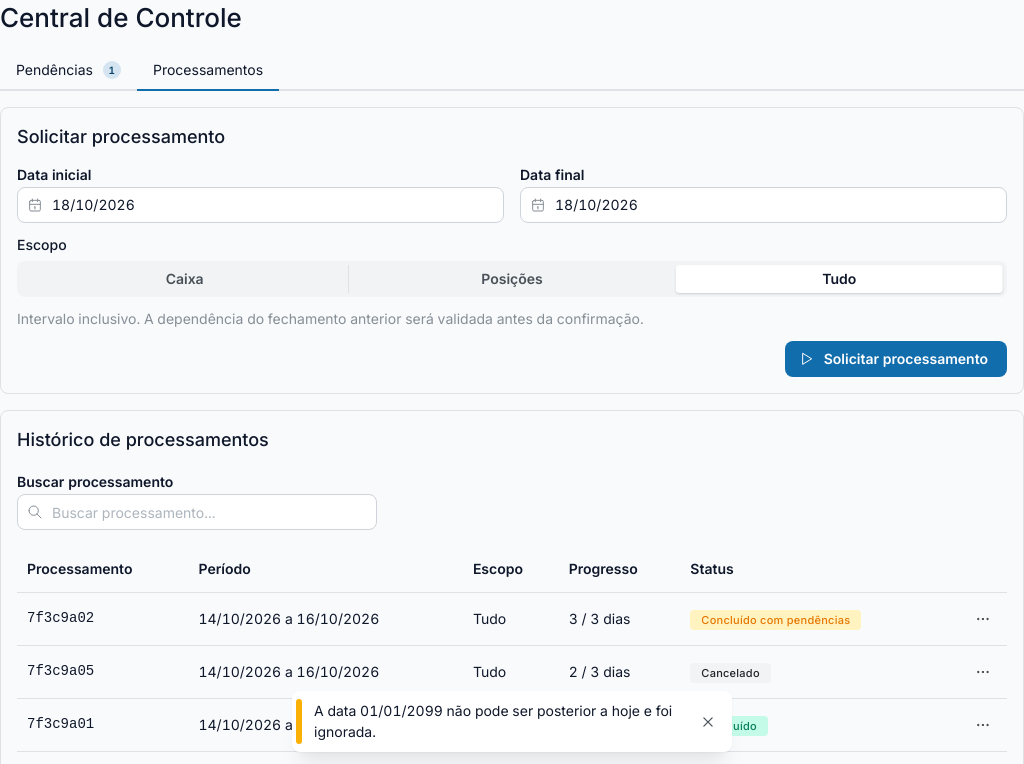
Test: Processamentos: request (§11.1, OQ-20) › OQ-31 after an unprocessed day: warns per chain that the run will fail on its first day
The width and height of the screenshot is (1024, 764).
Click the button "Solicitar processamento".
click(896, 359)  # box [785,341,1007,377]
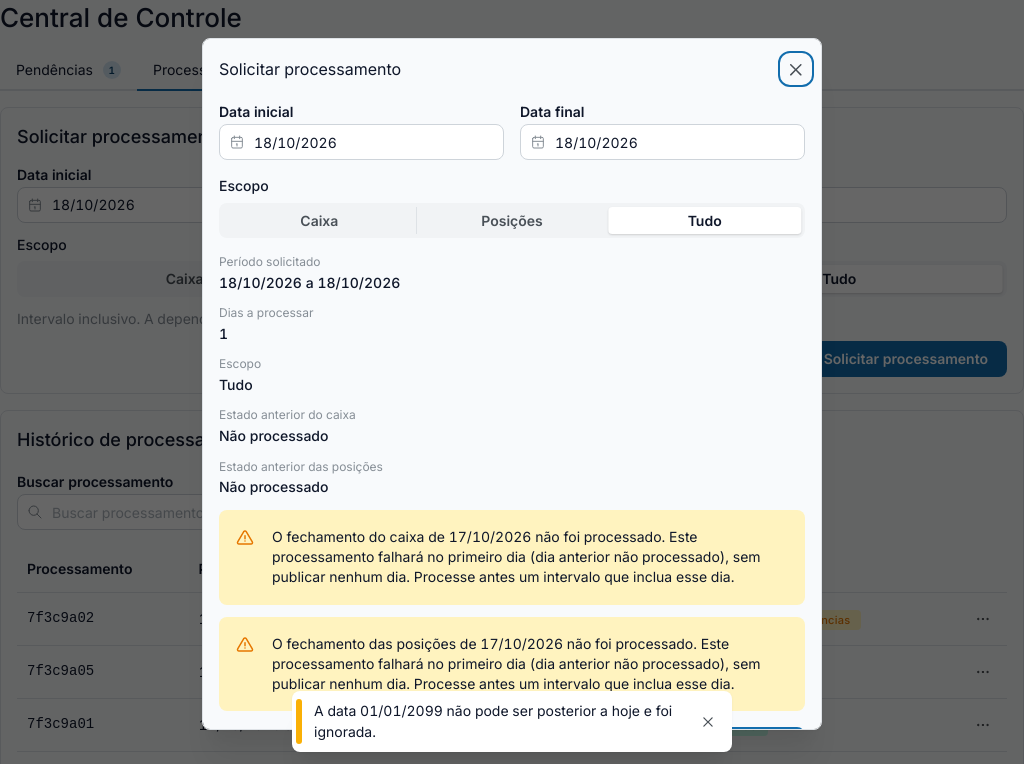
Result: the messages read "O fechamento do caixa de 17/10/2026 não foi processado. Este processamento falhará no primeiro dia (dia anterior não processado), sem publicar nenhum dia. Proce", "O fechamento das posições de 17/10/2026 não foi processado. Este processamento falhará no primeiro dia (dia anterior não processado), sem publicar nenhum dia. P", in this order at [219,510,805,605]; [219,616,805,711]
Result: the text "Não processado" below "Estado anterior do caixa" is shown at [219,427,328,444]
Result: the text "1" is shown at [219,325,228,342]
